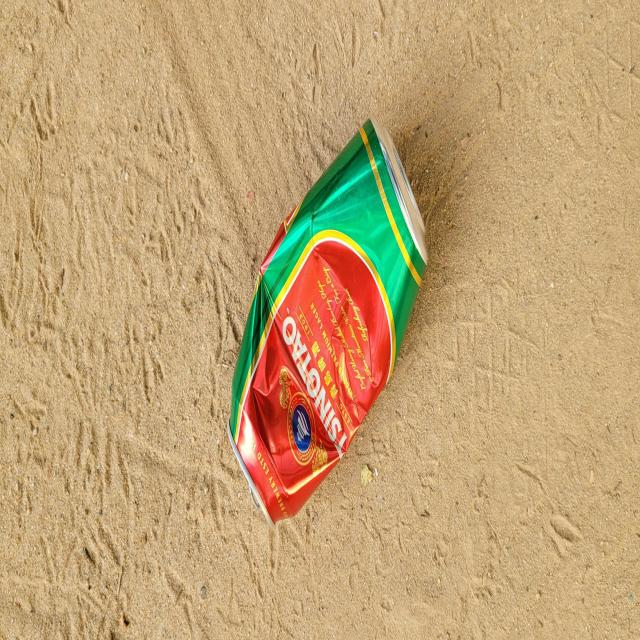can: (227, 117, 428, 524)
